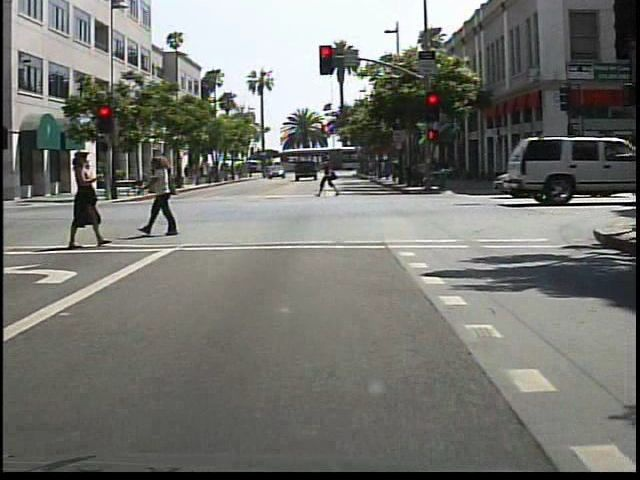person: (61, 147, 106, 250), (144, 155, 184, 237), (316, 151, 342, 199), (3, 149, 7, 256), (162, 160, 175, 187)
